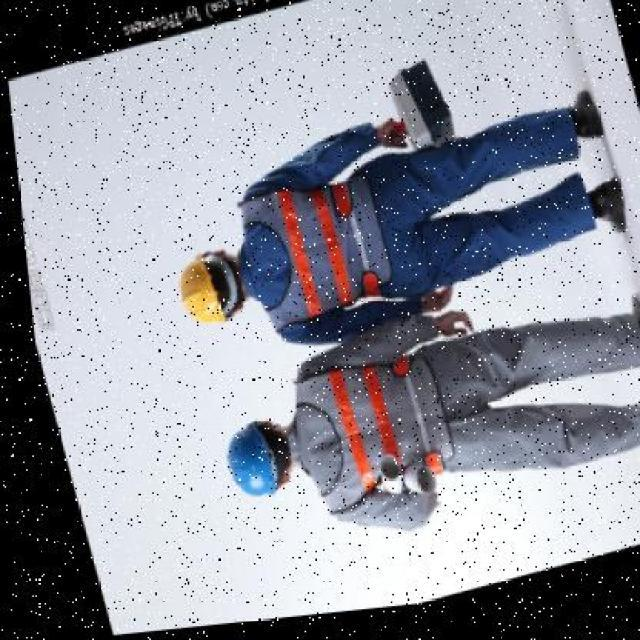helmet: (210, 428, 267, 509), (166, 252, 220, 334)
vest: (266, 327, 464, 537), (223, 151, 401, 351)
